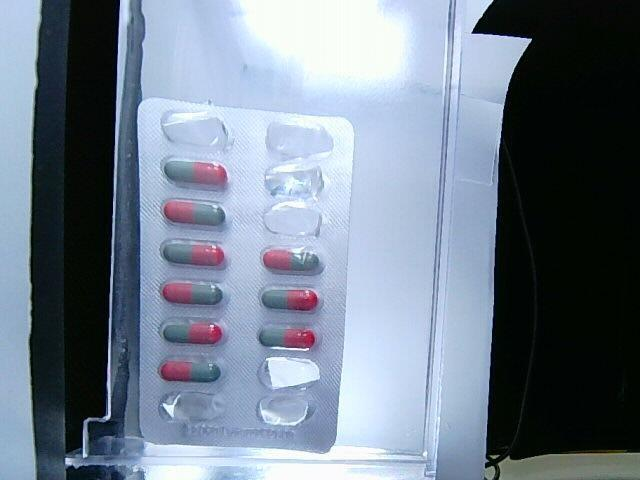Light Front: (139, 98, 354, 452)
No Pill Front: (161, 111, 229, 147), (266, 123, 333, 158), (258, 356, 320, 389), (159, 391, 225, 422), (264, 201, 321, 236), (265, 165, 323, 198), (258, 395, 309, 426)
Pill Front: (164, 160, 227, 185), (164, 200, 225, 225), (163, 243, 224, 265), (163, 283, 223, 305), (163, 323, 223, 344), (160, 361, 220, 382), (263, 249, 319, 271), (261, 289, 318, 310), (259, 328, 315, 349)
